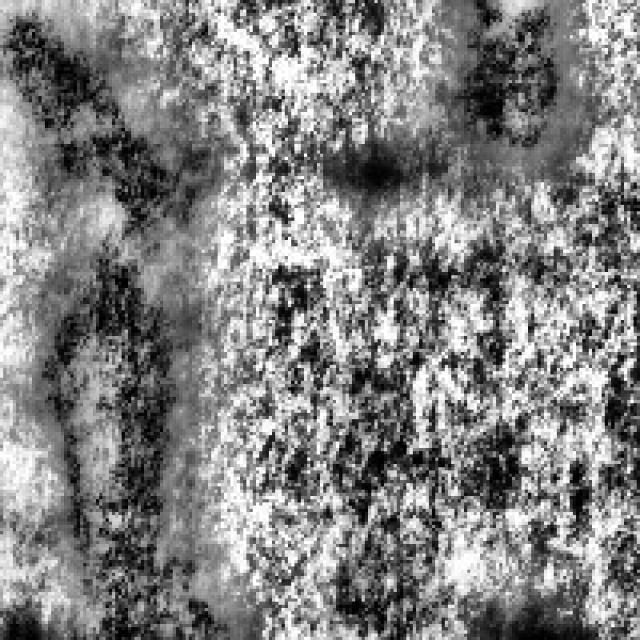Scratches: (16, 214, 234, 637), (0, 0, 208, 250), (441, 0, 566, 150)
